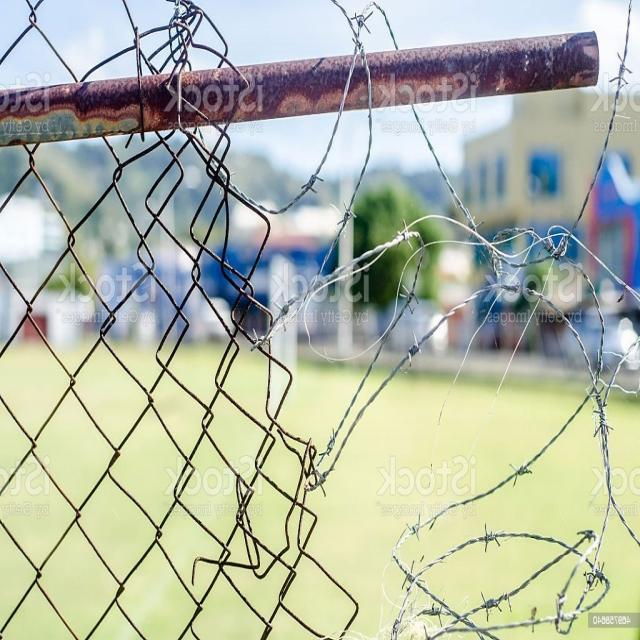fence line: (294, 21, 623, 597)
